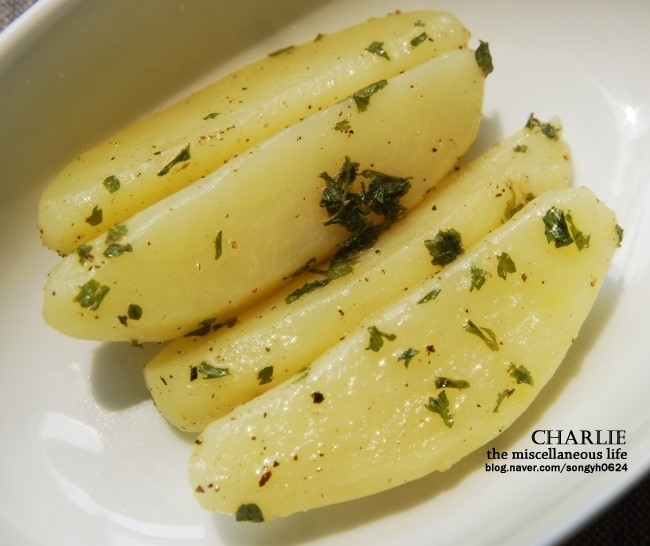boiled potatoes: (70, 86, 603, 449)
